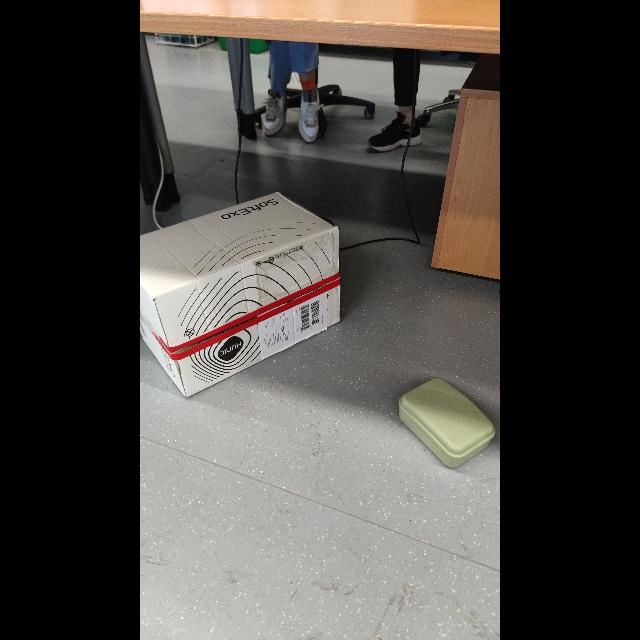cardboard_box: (140, 179, 374, 395), (392, 362, 498, 484)
